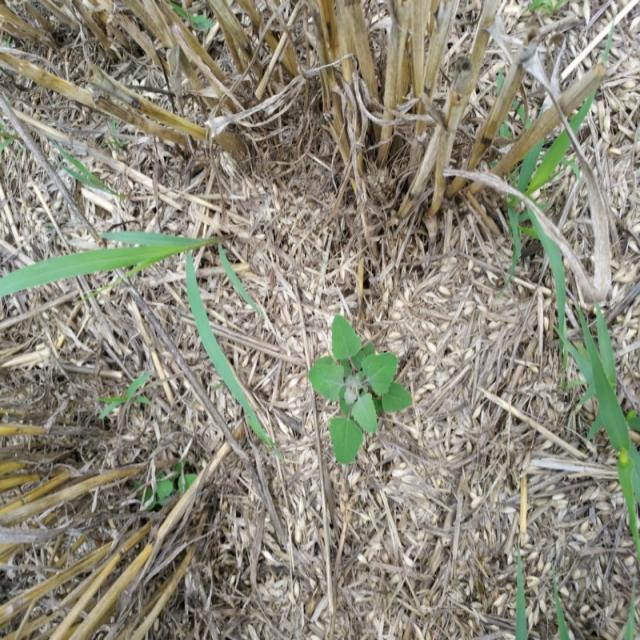goosefoots: (296, 323, 441, 483)
